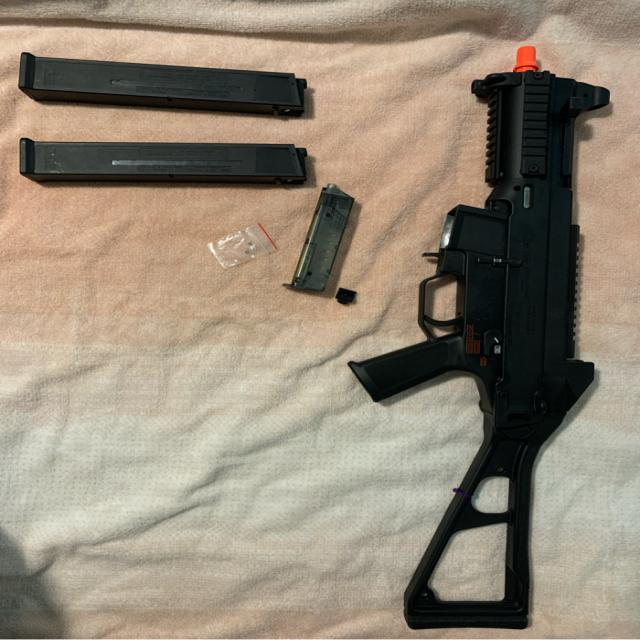SMG: (354, 48, 613, 633)
